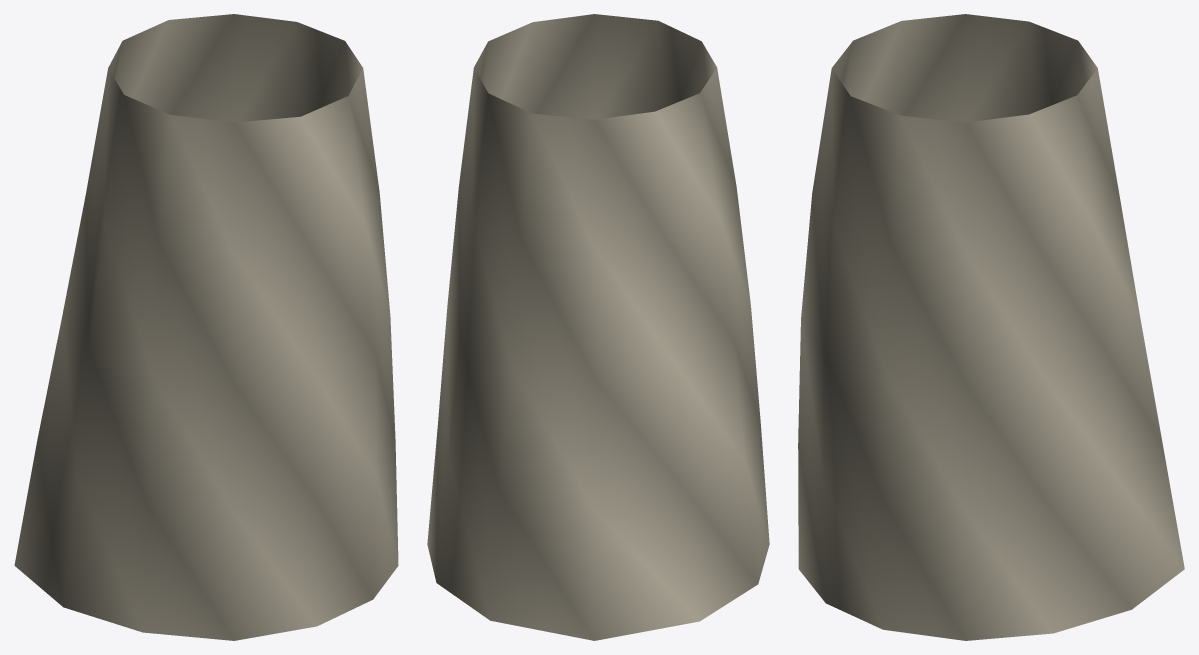
File: necro_armor_cuisse.R.glb
3 views of the same model, side by side, from view 1: azimuth 30°, elevation 25°; view 2: azimuth 150°, elevation 25°; view 3: azimuth 270°, elevation 25° (orthographic). The views are drawn at different scales.
Visible parts, largest first — view 1: necro_armor_cuisse.R; view 2: necro_armor_cuisse.R; view 3: necro_armor_cuisse.R.
Boxes of the visible parts, bbox=[...] form: necro_armor_cuisse.R: bbox=[14, 14, 398, 640]; necro_armor_cuisse.R: bbox=[427, 14, 769, 640]; necro_armor_cuisse.R: bbox=[798, 14, 1184, 640].
Bounding box in the file's own units: 0.2466 × 0.37 × 0.2587.
